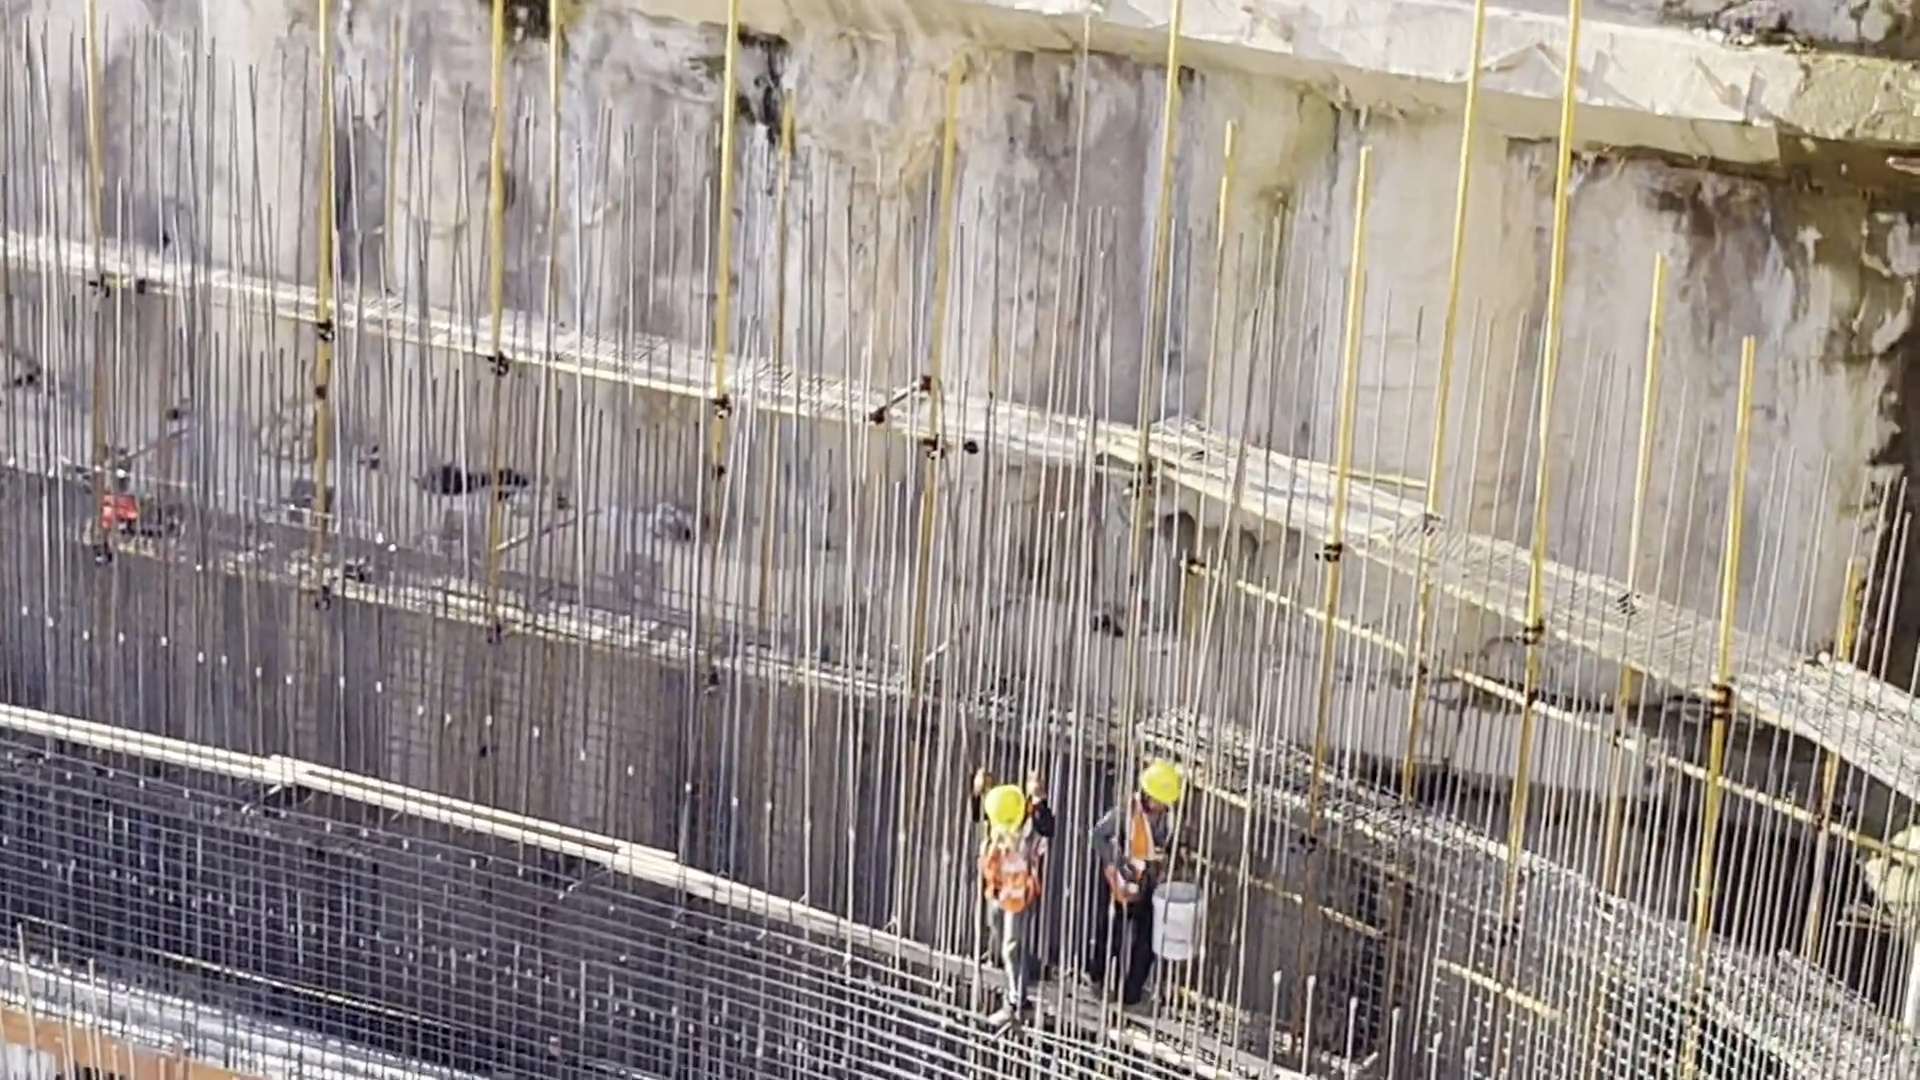helmet: (981, 782, 1041, 834), (1138, 763, 1186, 806)
person: (949, 769, 1070, 1020), (1081, 760, 1189, 1024)
vest: (1108, 806, 1191, 898), (974, 830, 1058, 905)
